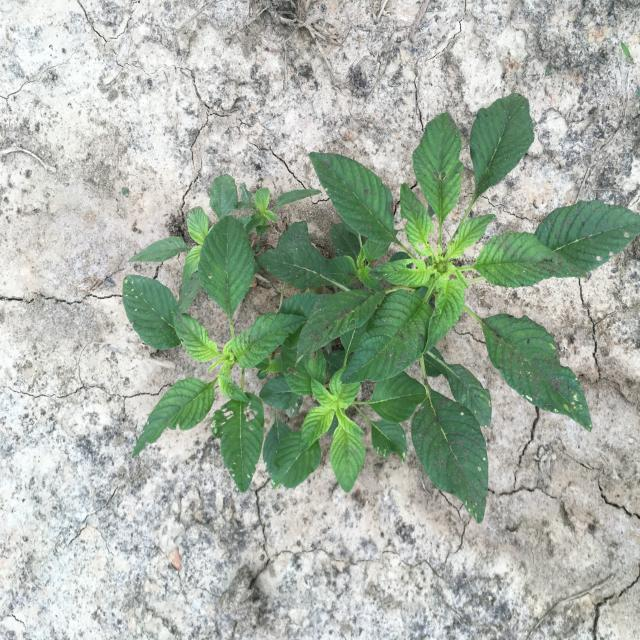PalmerAmaranth: (122, 94, 639, 523)
